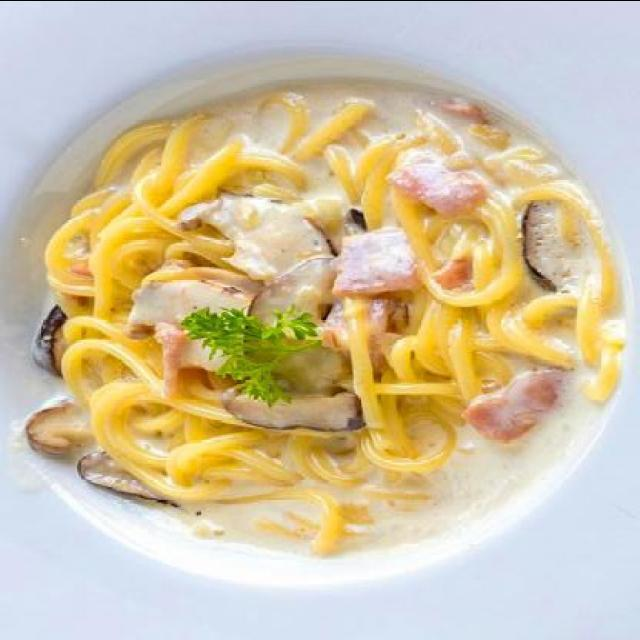Pasta with carbonara sauce: (19, 90, 584, 528)
